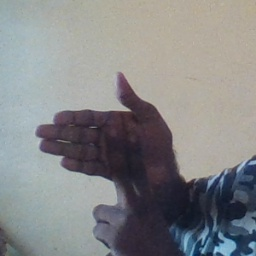N: (31, 70, 187, 245)
